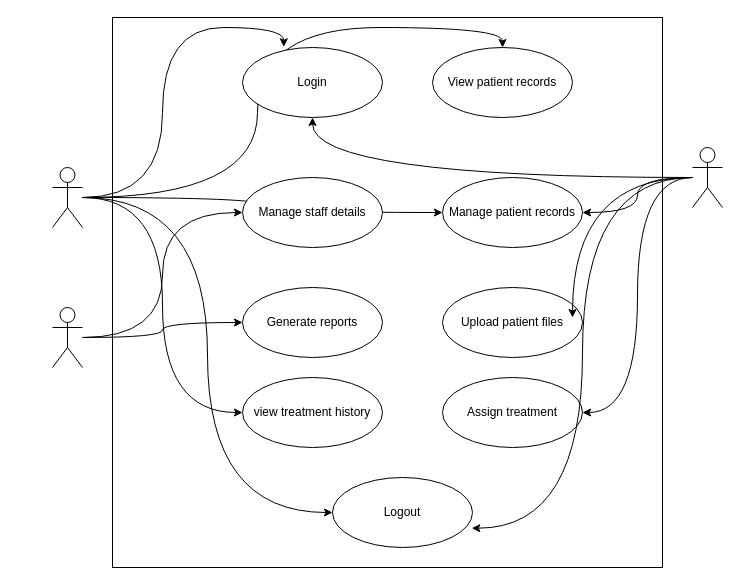
Some shapes in this 742 by 585 pixel diagram are drawn without their labels. The centre of each missing label's shape, as x and y in pixels:
"Administrative staff" goes at point 67,337.
"Doctor" goes at point 707,177.
"Nurse" goes at point 67,197.
